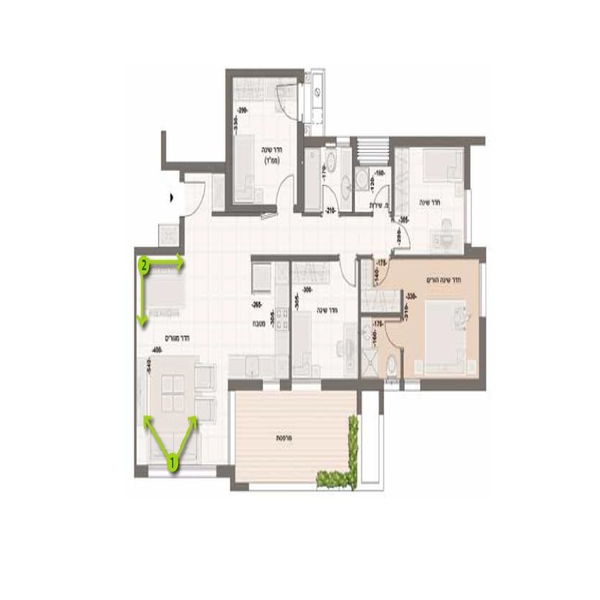door: (179, 180, 209, 218), (368, 252, 397, 289), (276, 83, 304, 119), (275, 175, 301, 211), (390, 221, 417, 253), (319, 181, 342, 216), (337, 257, 360, 290), (384, 318, 407, 349), (370, 180, 389, 214)
room: (130, 244, 294, 396), (399, 254, 488, 398), (225, 66, 308, 214), (388, 137, 473, 257), (289, 252, 363, 389)
wall: (225, 71, 235, 214), (158, 159, 227, 174), (297, 122, 307, 214), (424, 378, 485, 392), (389, 137, 486, 145), (252, 255, 337, 264), (479, 319, 487, 384), (324, 380, 380, 389), (226, 380, 262, 393), (132, 246, 184, 254), (289, 258, 292, 390), (352, 141, 357, 213), (392, 255, 481, 259)
window: (148, 466, 218, 477), (477, 259, 487, 319), (227, 397, 236, 462), (463, 188, 471, 247)
